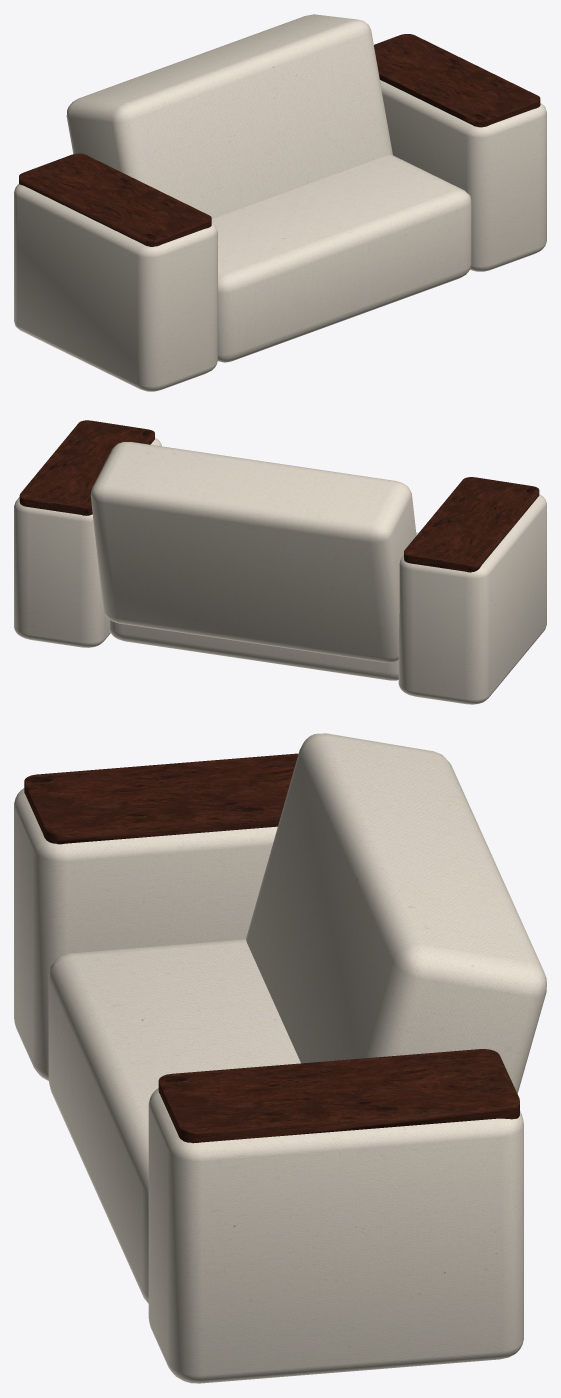
File: sofa-3.glb
The picture shows the model from 3 angles, top to bottom: view 1: azimuth 30°, elevation 25°; view 2: azimuth 150°, elevation 25°; view 3: azimuth 270°, elevation 25°; orthographic projection. The views are drawn at different scales.
Parts seen in each view (by area): view 1: Object_4, Object_8; view 2: Object_4, Object_8; view 3: Object_4, Object_8.
Boxes of the visible parts, x1,y1,x2,y2 form: Object_4: [14, 14, 546, 391]; Object_8: [19, 34, 540, 246]; Object_4: [14, 437, 546, 704]; Object_8: [19, 420, 539, 572]; Object_4: [14, 733, 546, 1383]; Object_8: [24, 753, 519, 1143].
Size of the model in its own units: 2.52 by 1.04 by 1.44.
Materials: 2 (2 with a texture image).
